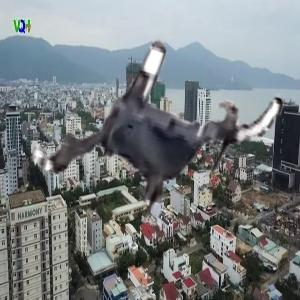drone: (32, 10, 281, 259)
